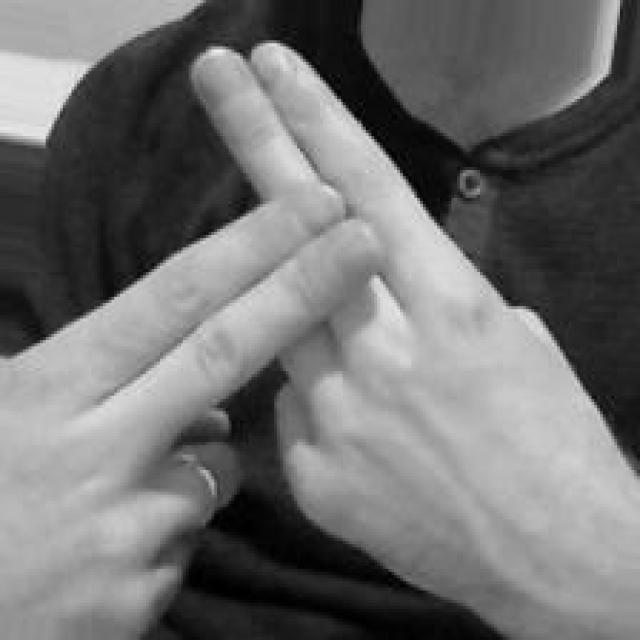K: (3, 34, 640, 640)
